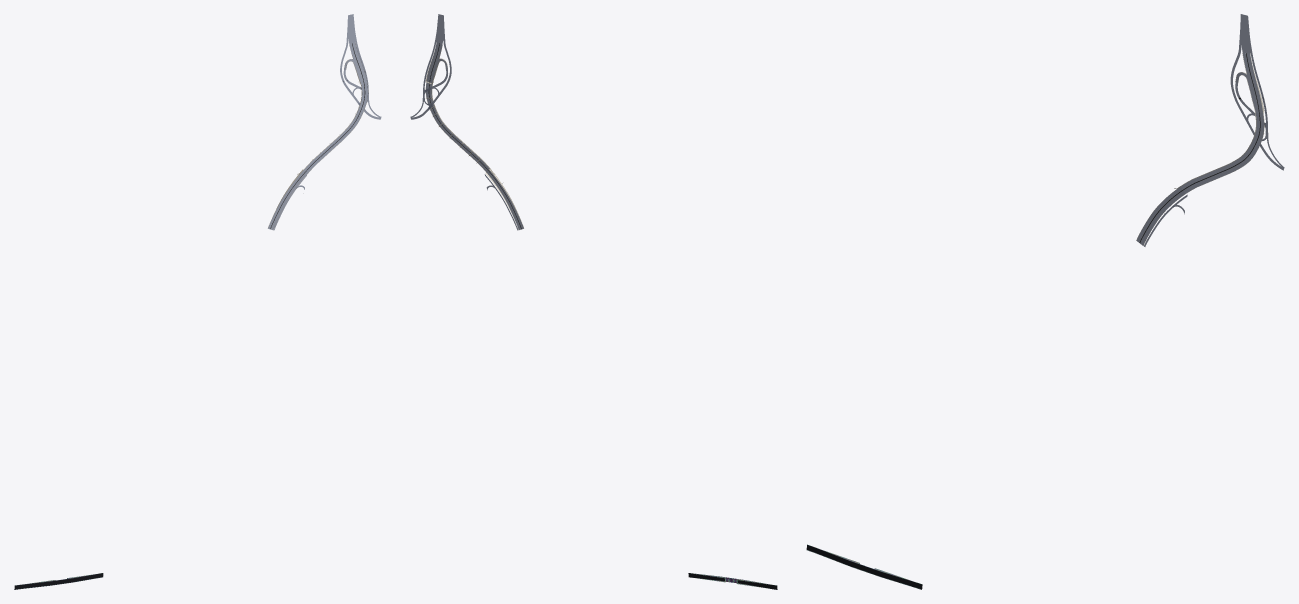
3 renders of one model, left to right at view 1: azimuth 30°, elevation 25°; view 2: azimuth 150°, elevation 25°; view 3: azimuth 330°, elevation 25°, orthographic. The views are drawn at different scales.
Parts seen in each view (by area): view 1: world; view 2: world; view 3: world.
Boxes of the visible parts, <box> form: world: <box>14,14,381,589</box>; world: <box>410,14,777,589</box>; world: <box>806,14,1284,589</box>.
Bounding box in the file's own units: 1464 × 1913 × 50.
1 material, 1 textured.
